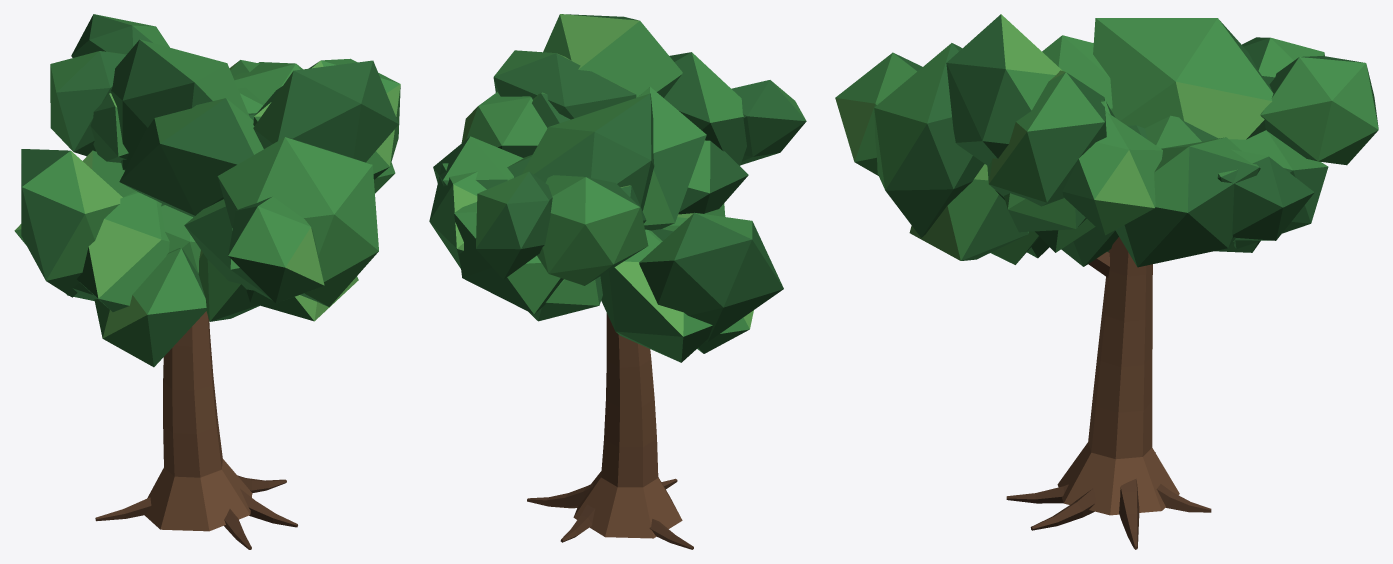
Rendered from tree_broadleaf_01.glb.
The picture shows the model from 3 angles, left to right: view 1: azimuth 30°, elevation 25°; view 2: azimuth 150°, elevation 25°; view 3: azimuth 270°, elevation 25°; orthographic projection. The views are drawn at different scales.
Parts seen in each view (by area): view 1: tree_broadleaf_01; view 2: tree_broadleaf_01; view 3: tree_broadleaf_01.
Part boxes in pixels (<box>): tree_broadleaf_01: <box>14,14,400,549</box>; tree_broadleaf_01: <box>429,14,806,549</box>; tree_broadleaf_01: <box>835,14,1378,549</box>.
Size of the model in its own units: 4.02 by 5.36 by 5.2.
